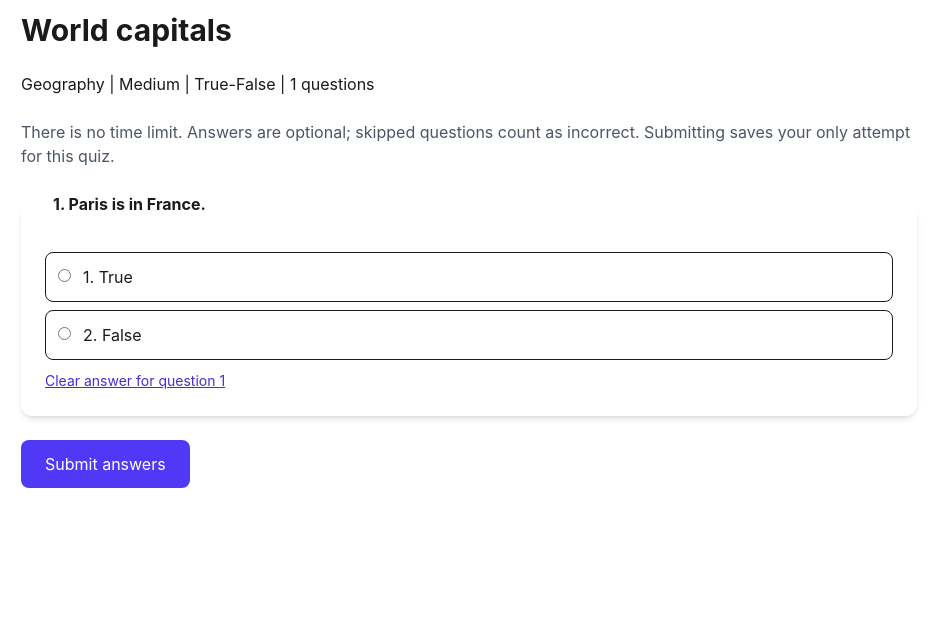
Test: taking and reviewing quizzes › allows clearing a True-False answer before submitting it as skipped
Click the radio button labelled "2. False". click: (64, 334)
box: [58, 327, 71, 340]
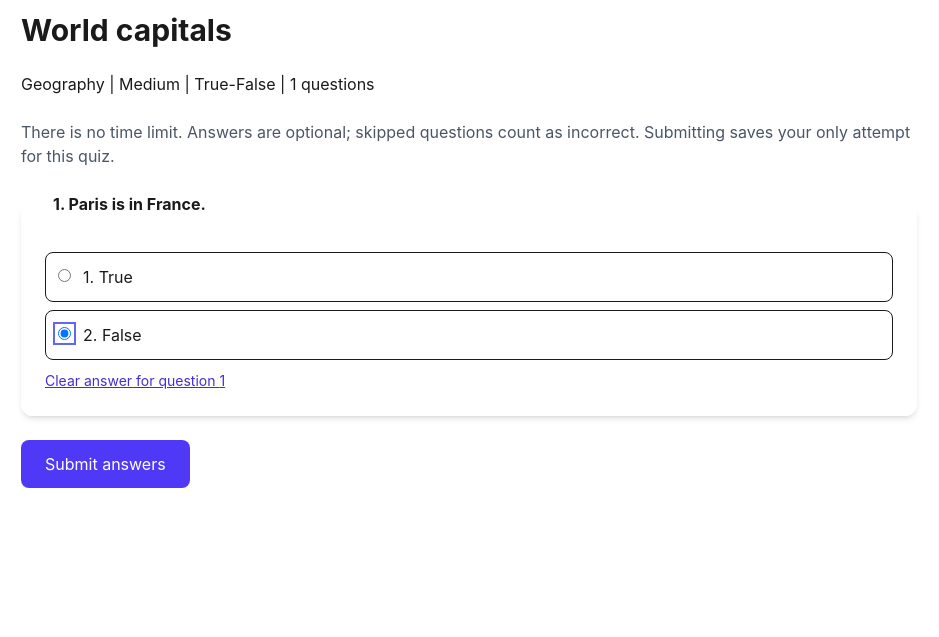
Expected: the radio button labelled "2. False" is checked, [58, 327, 71, 340]
Click the button "Clear answer for question 1". click: (135, 381)
box: [45, 371, 225, 391]
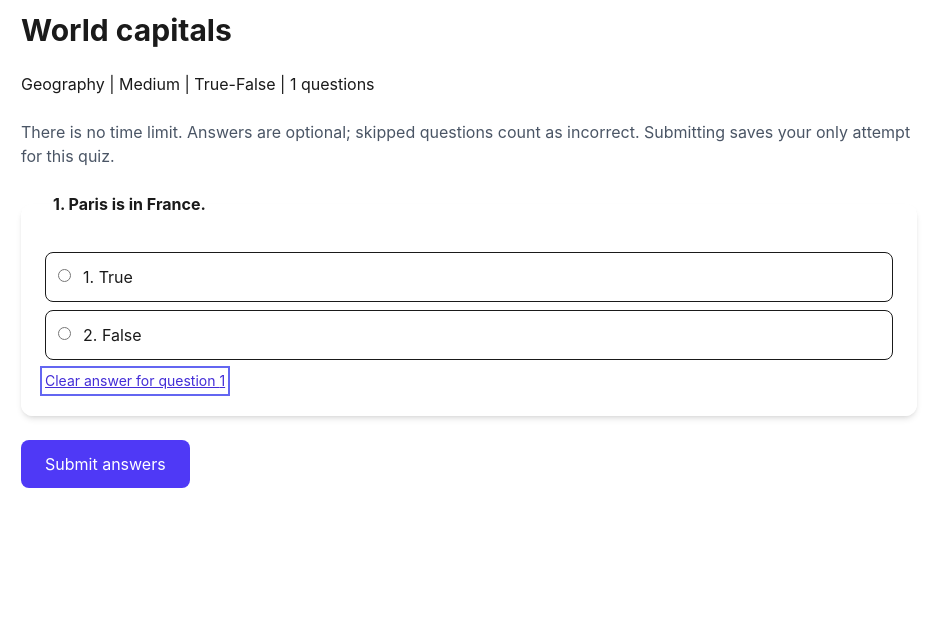
Expected: the radio button labelled "2. False" is not checked, [58, 327, 71, 340]
Click the button "Submit answers". click: (105, 464)
box: [21, 440, 190, 488]
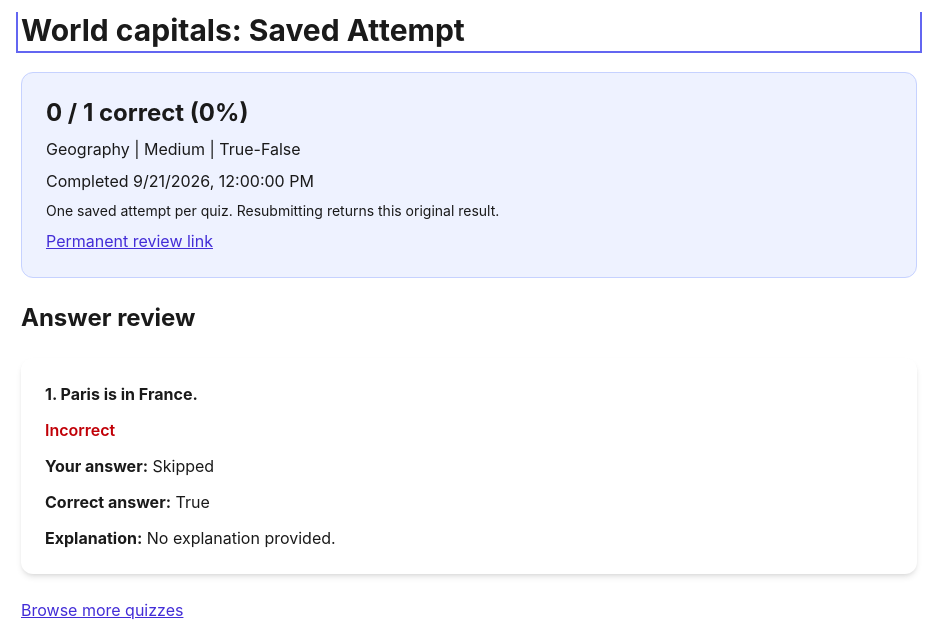
Expected: the element named "Saved result" is shown, [21, 72, 917, 278]
